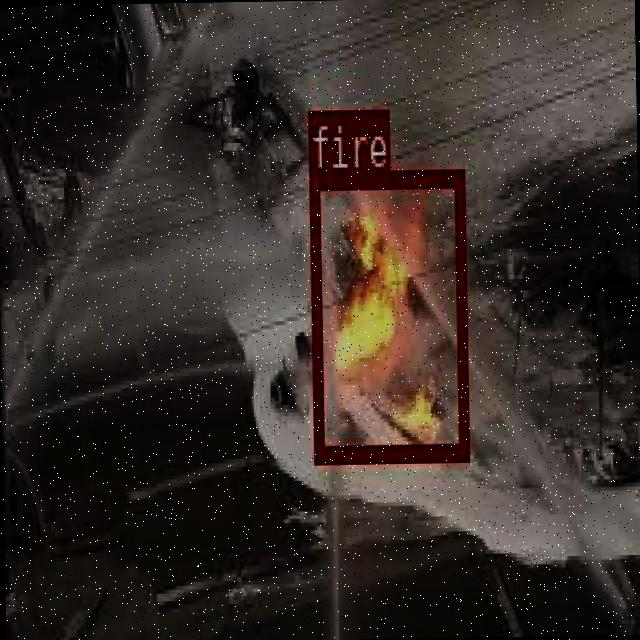fire: (307, 169, 466, 458)
